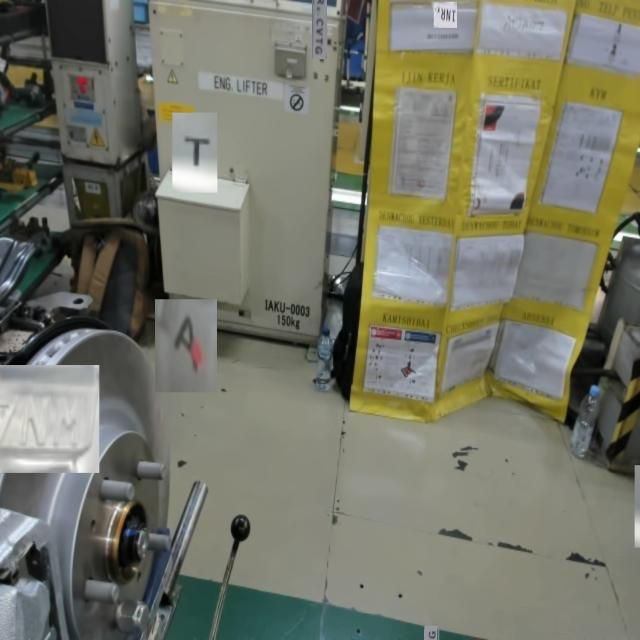Compressor-A: (168, 310, 206, 382)
Compressor-T: (181, 128, 214, 176)
Disc-SV: (41, 390, 172, 640)
Transaxele-7NM: (0, 389, 85, 451)
